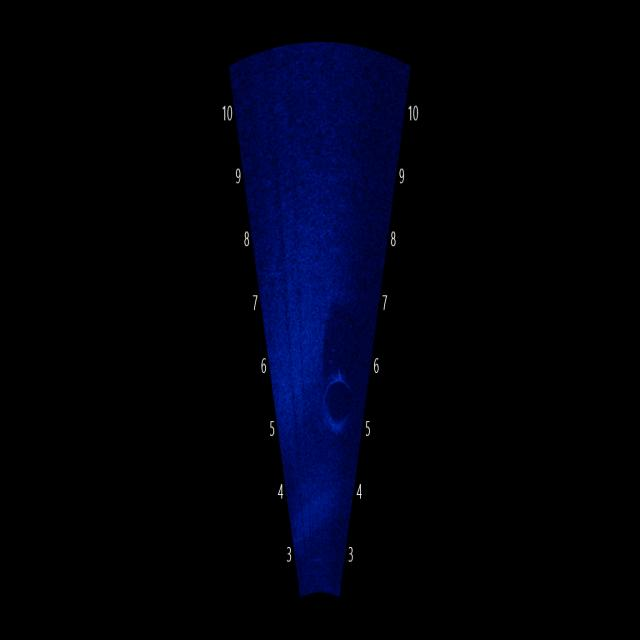circle: (314, 360, 358, 440)
